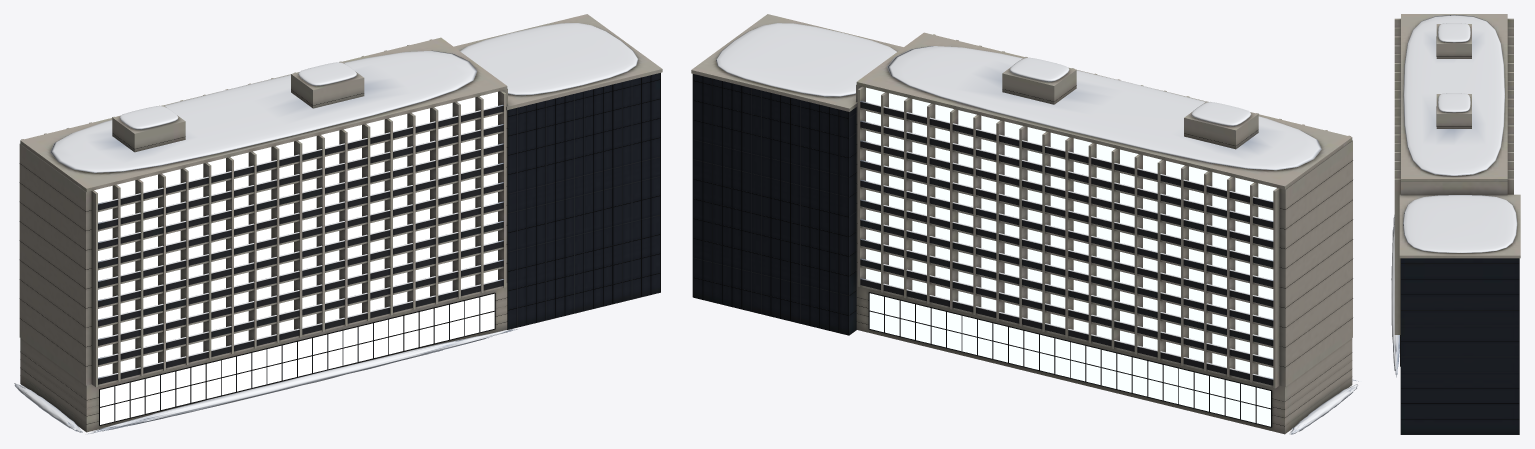
The model's file is cliff_lodge.glb.
The picture shows the model from 3 angles, left to right: view 1: azimuth 30°, elevation 25°; view 2: azimuth 150°, elevation 25°; view 3: azimuth 270°, elevation 25°; orthographic projection. The views are drawn at different scales.
Parts seen in each view (by area): view 1: cliff_lodge, cliff_lodge_lit, cliff_lodge_snow; view 2: cliff_lodge, cliff_lodge_lit, cliff_lodge_snow; view 3: cliff_lodge, cliff_lodge_snow.
Part boxes in pixels (left/top/right/bottom): cliff_lodge: left=19, top=14, right=662, bottom=432; cliff_lodge_lit: left=94, top=92, right=497, bottom=424; cliff_lodge_snow: left=14, top=23, right=638, bottom=434; cliff_lodge: left=691, top=14, right=1352, bottom=434; cliff_lodge_lit: left=866, top=87, right=1276, bottom=426; cliff_lodge_snow: left=716, top=23, right=1358, bottom=434; cliff_lodge: left=1394, top=14, right=1520, bottom=434; cliff_lodge_snow: left=1391, top=14, right=1517, bottom=377.
Bounding box in the file's own units: 91.84 × 40.55 × 21.81.
3 materials, 1 textured.
